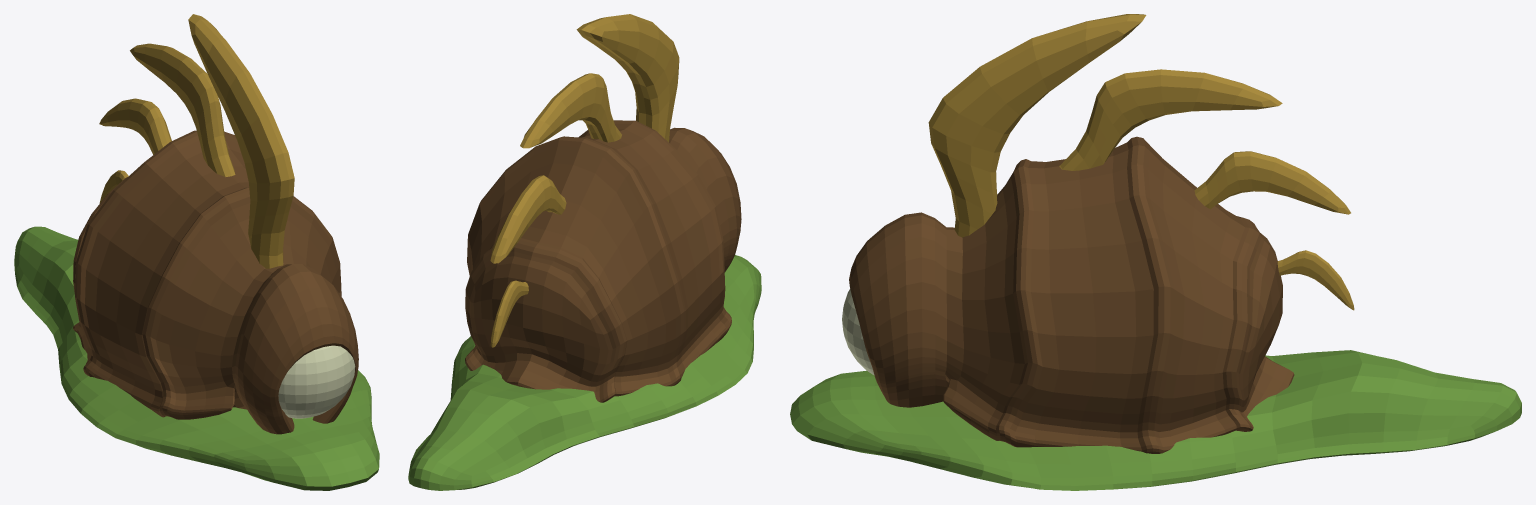
The model's file is Spiked Snail.fbx.
The picture shows the model from 3 angles, left to right: view 1: azimuth 30°, elevation 25°; view 2: azimuth 150°, elevation 25°; view 3: azimuth 270°, elevation 25°; orthographic projection. The views are drawn at different scales.
Visible parts, largest first — view 1: snail_shell, snail_body, snail_spike_1, snail_spike_2, snail_eyeball, snail_spike_3; view 2: snail_shell, snail_body, snail_spike_1, snail_spike_2, snail_spike_3, snail_spike_4; view 3: snail_shell, snail_body, snail_spike_1, snail_spike_2, snail_spike_3, snail_spike_4, snail_eyeball.
Boxes of the visible parts, x1=… form: snail_shell: x1=73, y1=130, x2=358, y2=434; snail_body: x1=14, y1=226, x2=379, y2=490; snail_spike_1: x1=188, y1=14, x2=294, y2=268; snail_spike_2: x1=130, y1=43, x2=235, y2=176; snail_eyeball: x1=278, y1=345, x2=355, y2=418; snail_spike_3: x1=99, y1=98, x2=171, y2=154; snail_shell: x1=465, y1=120, x2=741, y2=402; snail_body: x1=408, y1=255, x2=761, y2=490; snail_spike_1: x1=576, y1=14, x2=679, y2=142; snail_spike_2: x1=520, y1=73, x2=621, y2=148; snail_spike_3: x1=490, y1=175, x2=566, y2=263; snail_spike_4: x1=490, y1=280, x2=528, y2=347; snail_shell: x1=849, y1=136, x2=1294, y2=453; snail_body: x1=790, y1=350, x2=1521, y2=490; snail_spike_1: x1=928, y1=14, x2=1146, y2=237; snail_spike_2: x1=1059, y1=69, x2=1282, y2=170; snail_spike_3: x1=1194, y1=151, x2=1350, y2=214; snail_spike_4: x1=1277, y1=250, x2=1354, y2=310; snail_eyeball: x1=842, y1=289, x2=874, y2=375.
Bounding box in the file's own units: 241 × 326 × 527.
